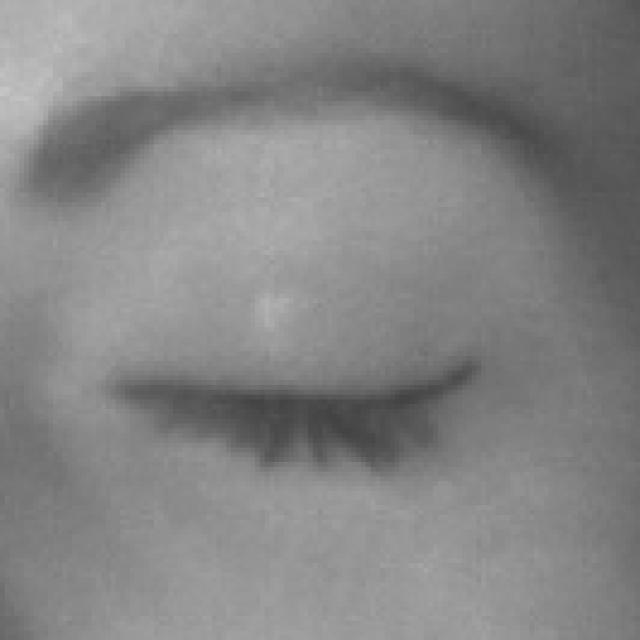close: (0, 43, 640, 588)
